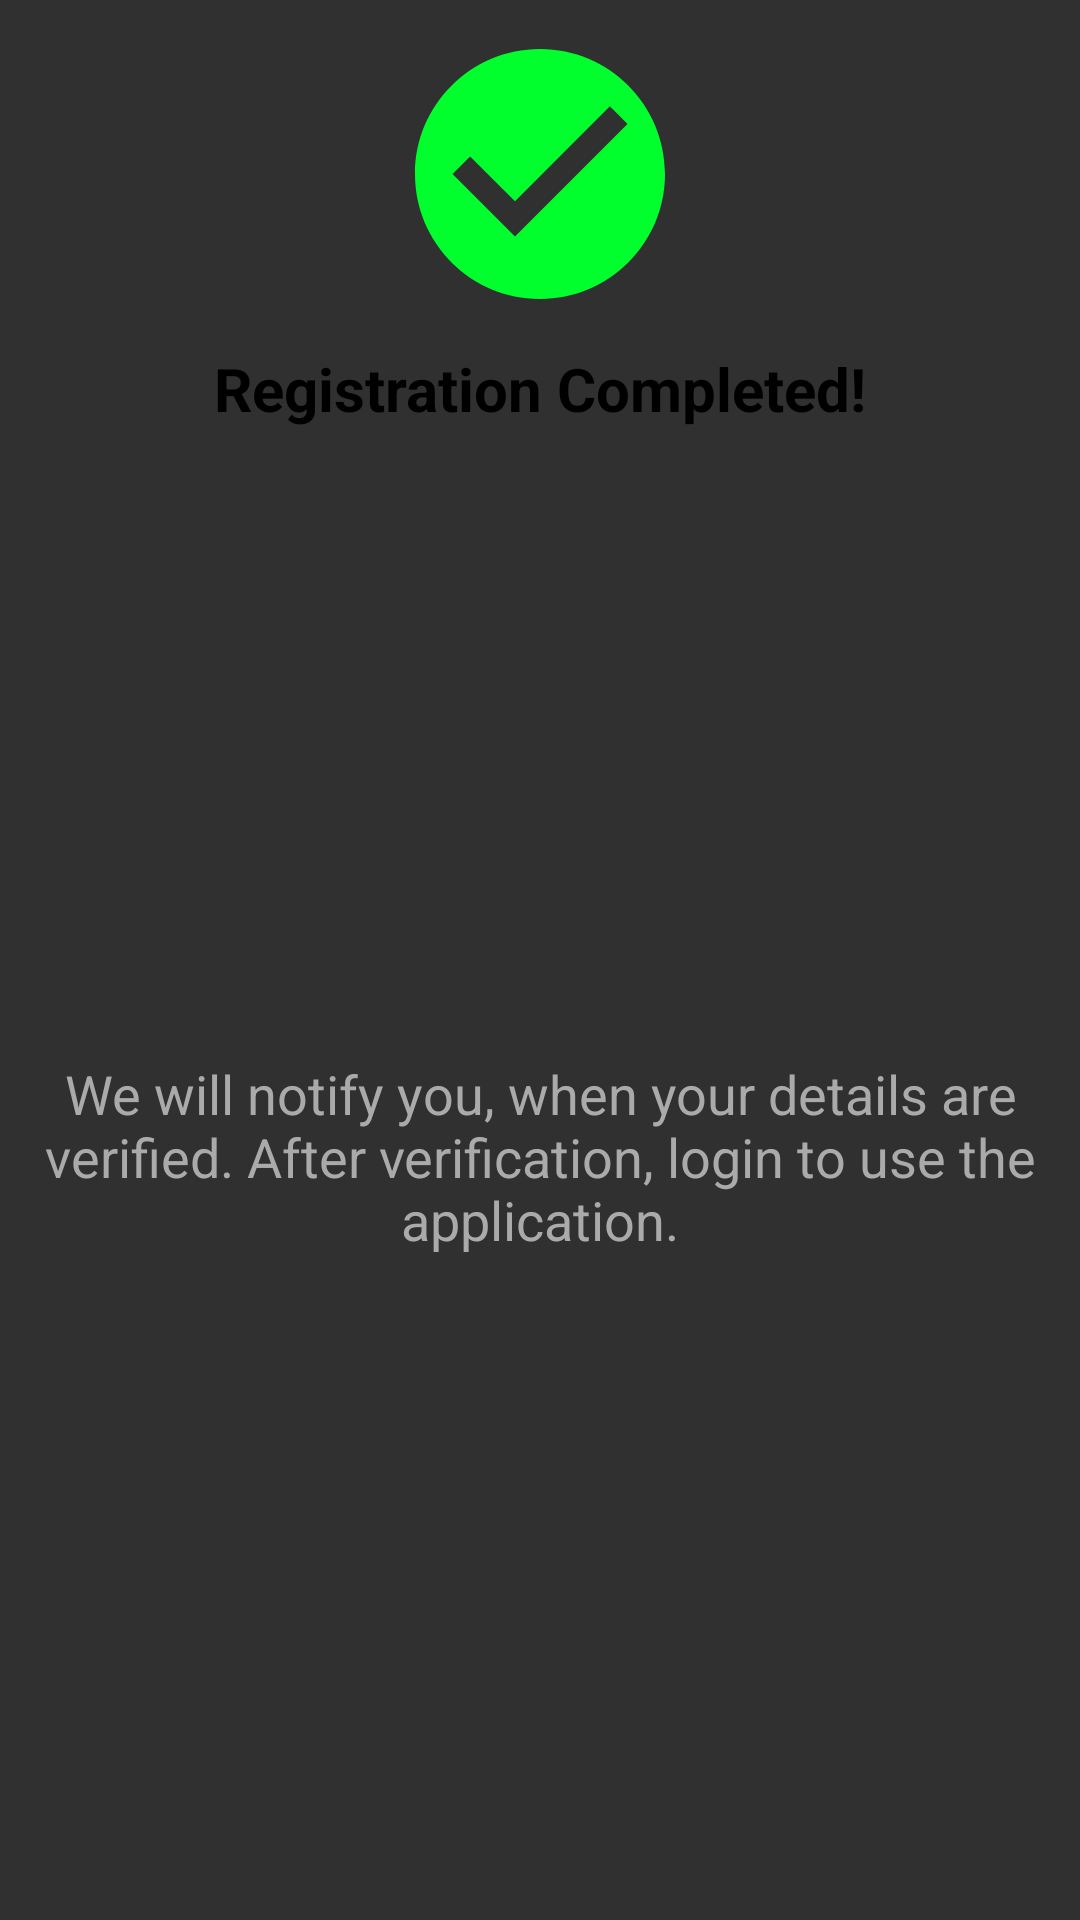

Point at icon controls on the screen. Image size 1080w x 1920h, points as (x=x, y=y).
check circle: (x=540, y=174)
